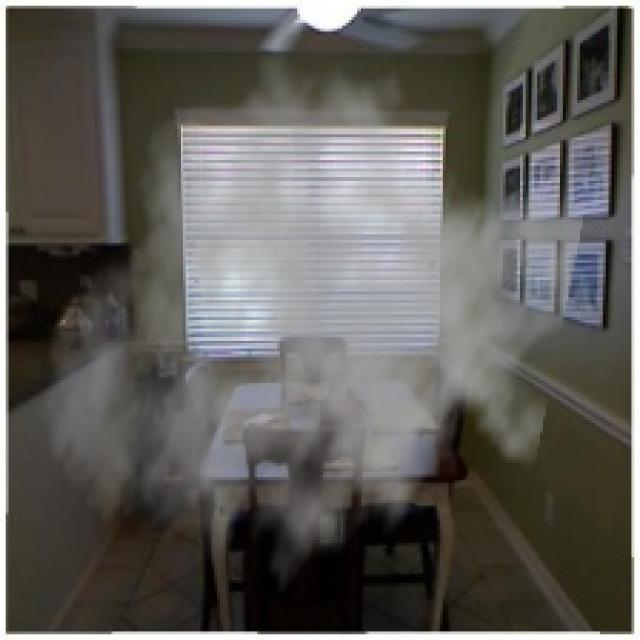Smoke: (40, 46, 589, 614)
